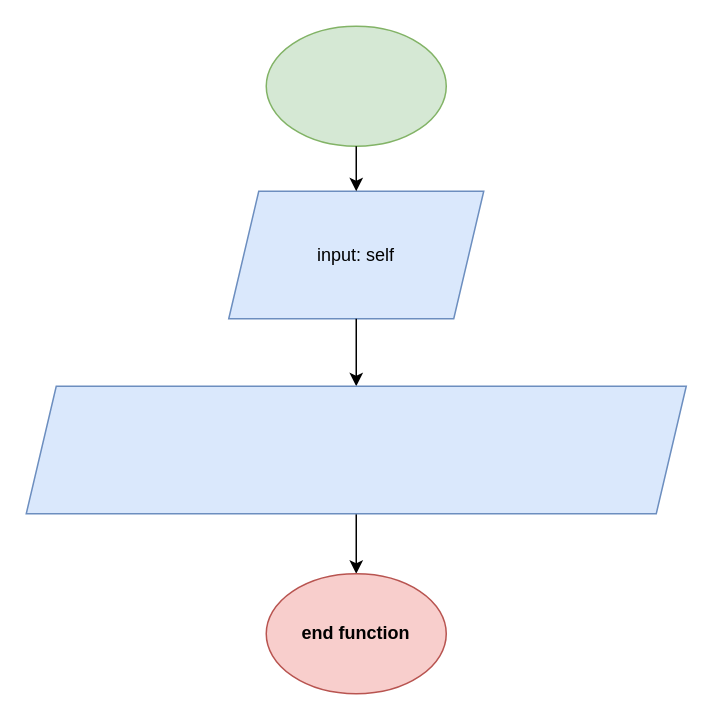
Image size: 713x720. Some labels were removed from this diagram. Here are the shapes that lost their labels. From the top down, the centre of each, then its label:
the point at 355,85: start value()
the point at 355,449: output: return (10 if (self.rank > 10) else self.rank)
